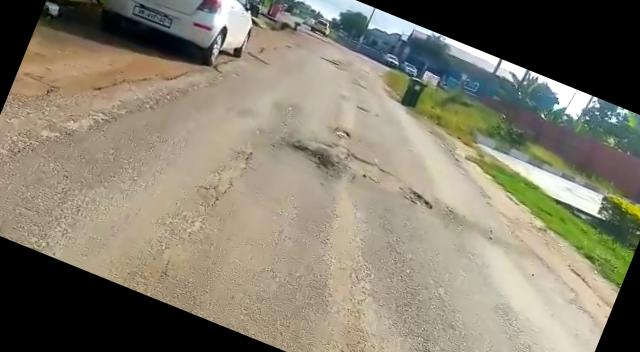pothole: (340, 151, 454, 218), (286, 136, 342, 175), (330, 124, 354, 144)
